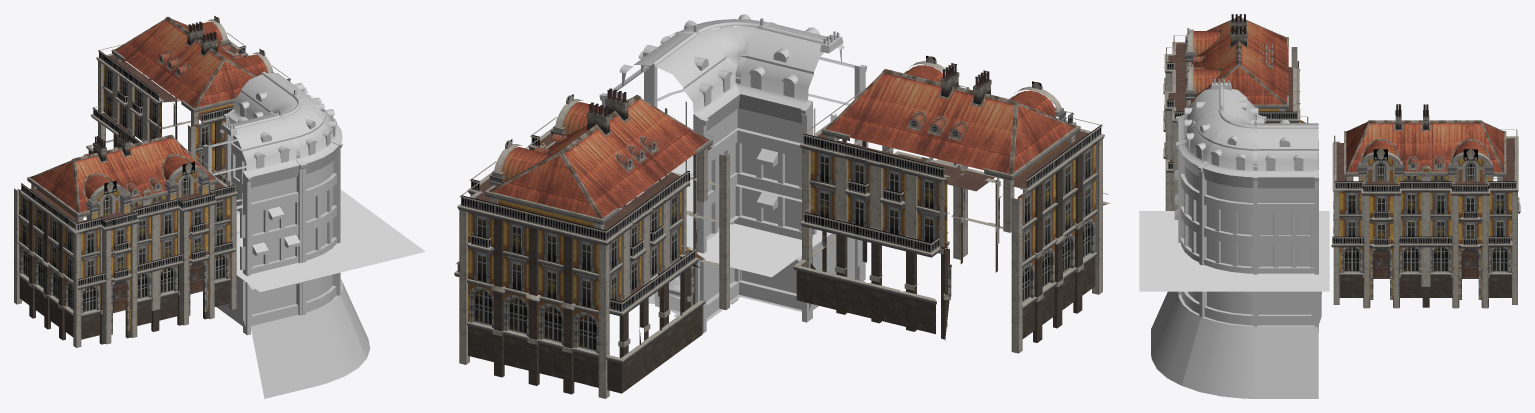
Rendered from attractive_facade_03.gltf.
The picture shows the model from 3 angles, left to right: view 1: azimuth 30°, elevation 25°; view 2: azimuth 150°, elevation 25°; view 3: azimuth 270°, elevation 25°; orthographic projection. The views are drawn at different scales.
Visible parts, largest first — view 1: colony_01.001, Mesh_0.001, colony_01, Mesh_0, ground, _lod0; view 2: colony_01, colony_01.001, Mesh_0.001, Mesh_0, _lod0, ground; view 3: Mesh_0, colony_01, colony_01.001, ground, Mesh_0.001, _lod0.
Boxes of the visible parts, x1,y1,x2,y2 form: colony_01.001: (14,130,237,347); Mesh_0.001: (202,113,319,398); colony_01: (86,16,290,183); Mesh_0: (224,71,370,385); ground: (236,189,425,292); _lod0: (203,113,306,330); colony_01: (454,88,729,398); colony_01.001: (793,55,1110,353); Mesh_0.001: (734,24,868,322); Mesh_0: (599,14,775,333); _lod0: (730,22,867,321); ground: (619,155,831,277); Mesh_0: (1151,105,1321,398); colony_01: (1331,104,1520,308); colony_01.001: (1163,14,1308,210); ground: (1139,211,1329,291); Mesh_0.001: (1151,79,1266,329); _lod0: (1151,79,1266,355).
Bounding box in the file's own units: 6.05 × 4.44 × 6.01.
